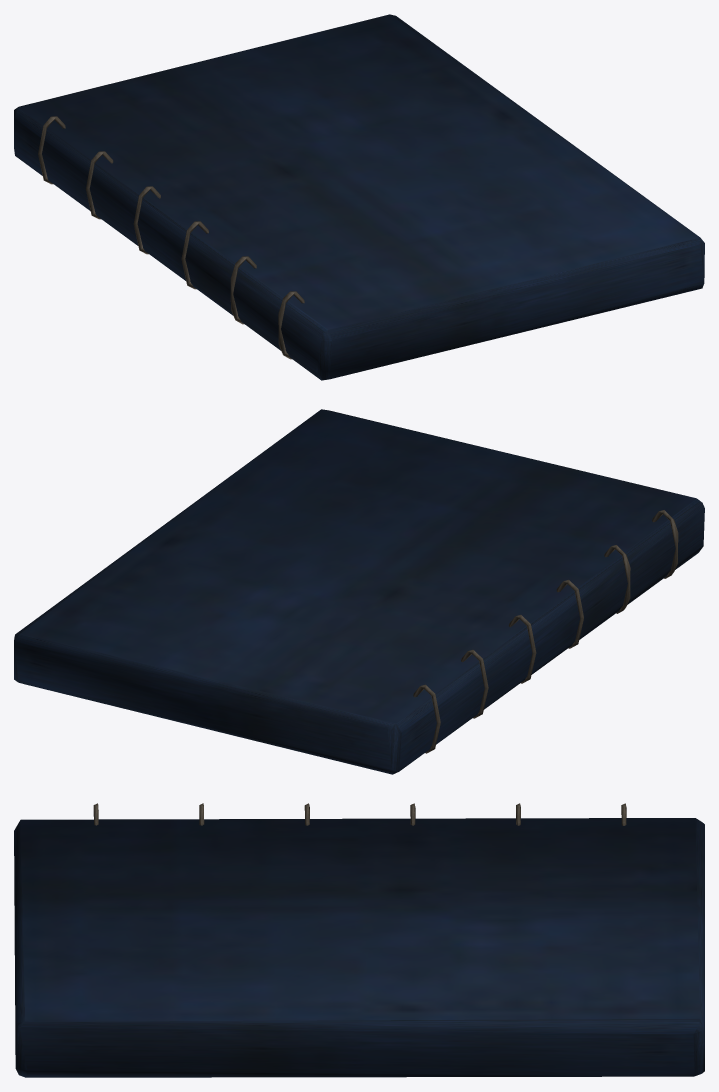
The model's file is so_tay_lod1.glb.
The picture shows the model from 3 angles, top to bottom: view 1: azimuth 30°, elevation 25°; view 2: azimuth 150°, elevation 25°; view 3: azimuth 270°, elevation 25°; orthographic projection. The views are drawn at different scales.
Parts seen in each view (by area): view 1: so_tay.001; view 2: so_tay.001; view 3: so_tay.001.
Boxes of the visible parts, left/top/right/bottom form: so_tay.001: left=14, top=14, right=704, bottom=380; so_tay.001: left=14, top=409, right=704, bottom=774; so_tay.001: left=14, top=803, right=704, bottom=1077.
Bounding box in the file's own units: 0.153 × 0.025 × 0.2095.
1 material, 1 textured.
